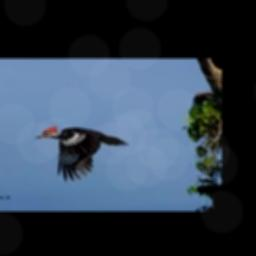Woodpecker: (35, 125, 130, 181)
